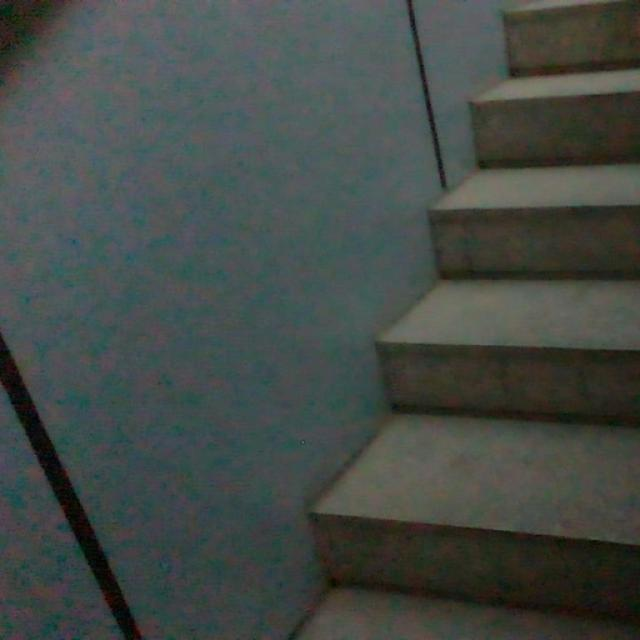stair: (312, 61, 640, 612)
